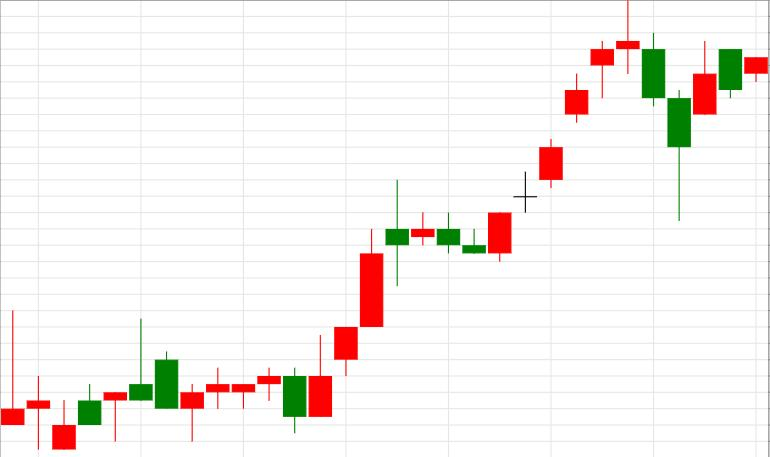evening_star_fall: (488, 0, 665, 261)
